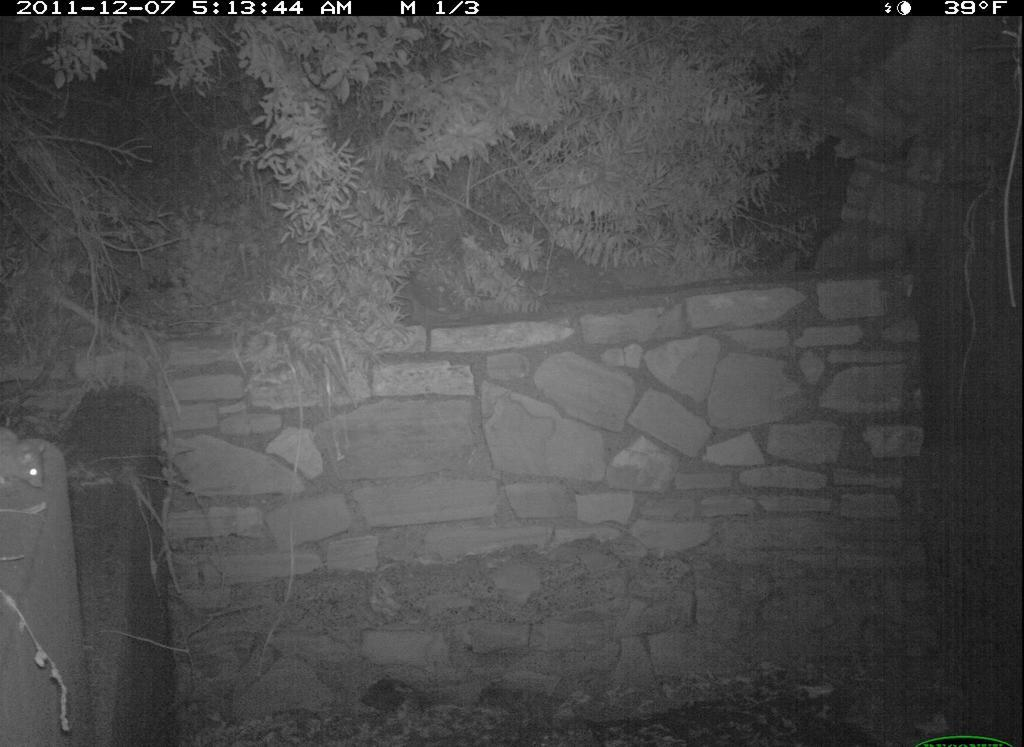rodent: (2, 422, 65, 497)
